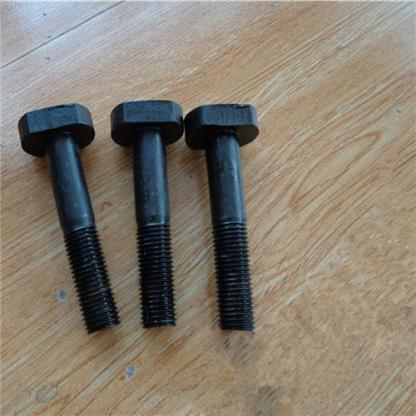FOD: (14, 101, 123, 337), (184, 100, 262, 333), (109, 99, 185, 331)
